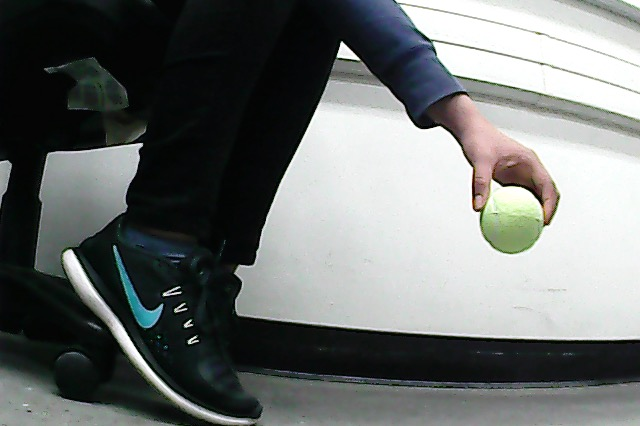ball: (481, 187, 544, 255)
